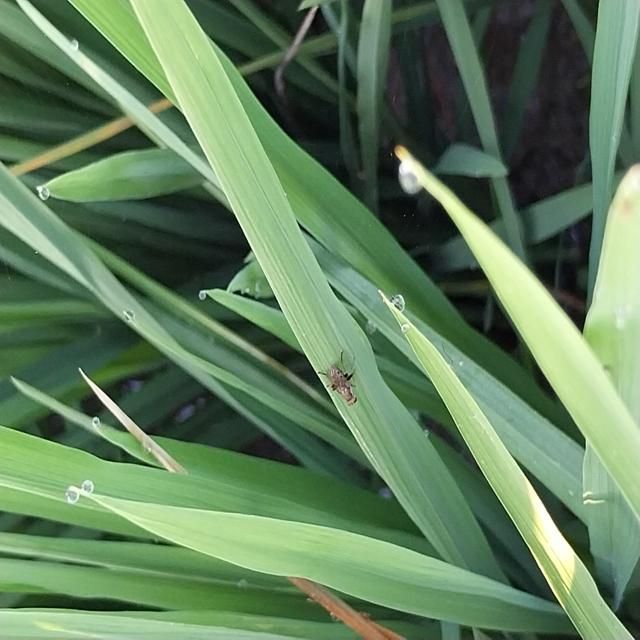Leaf scald: (316, 353, 367, 410)
